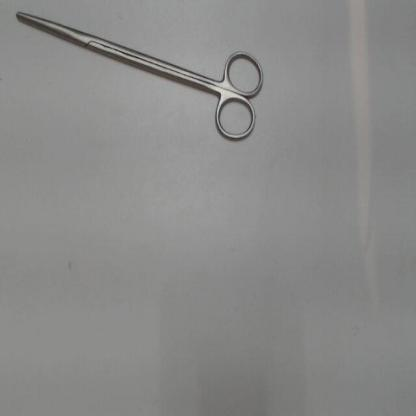9 Metzenbaum Scissors: (13, 4, 270, 149)
